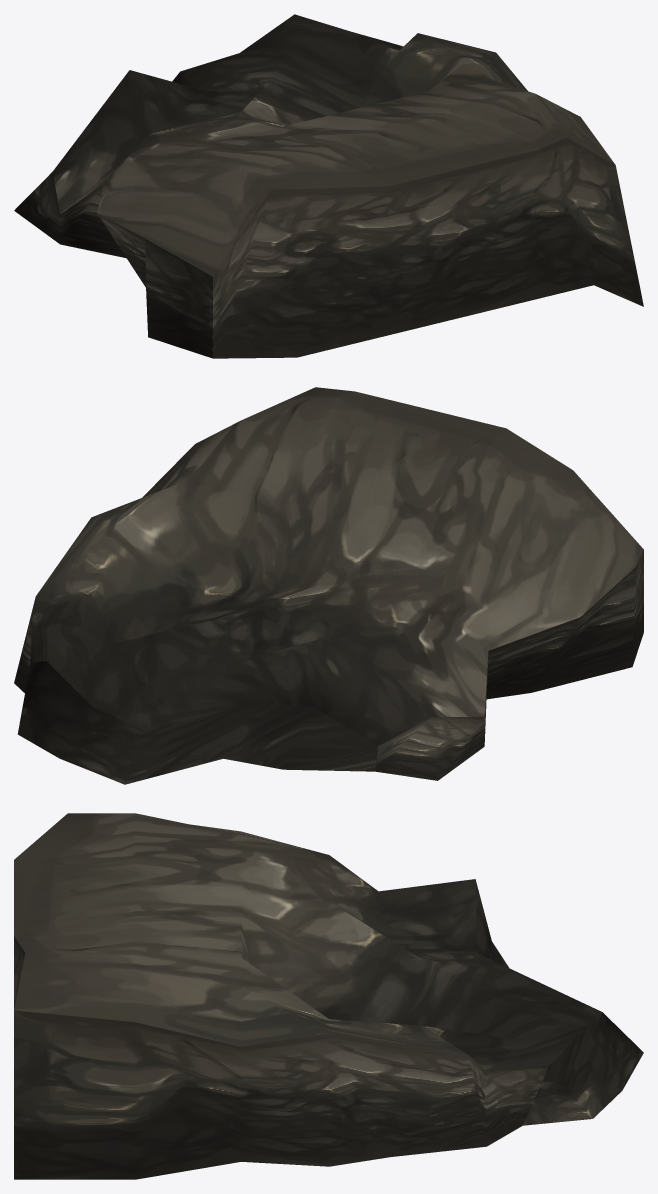
Rendered from Broken_bottom_stones2.fbx.
3 views of the same model, one above another, from view 1: azimuth 30°, elevation 25°; view 2: azimuth 150°, elevation 25°; view 3: azimuth 270°, elevation 25° (orthographic). The views are drawn at different scales.
Parts seen in each view (by area): view 1: pCube16; view 2: pCube16; view 3: pCube16.
Boxes of the visible parts, left/top/right/bottom form: pCube16: left=14, top=14, right=643, bottom=358; pCube16: left=14, top=387, right=643, bottom=784; pCube16: left=14, top=813, right=643, bottom=1179.
Bounding box in the file's own units: 53.06 × 19.14 × 57.39.
